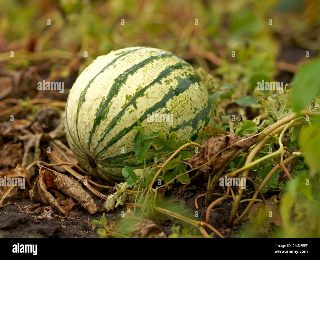dua_hau: (63, 45, 214, 187)
